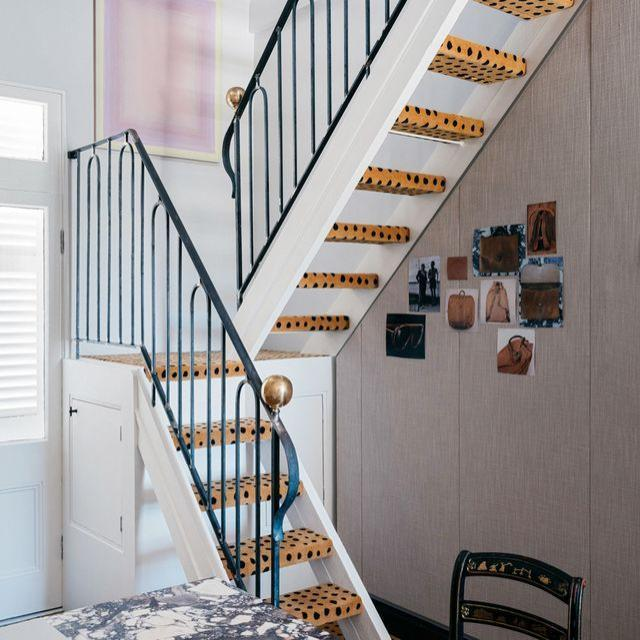stairs: (114, 0, 586, 638)
